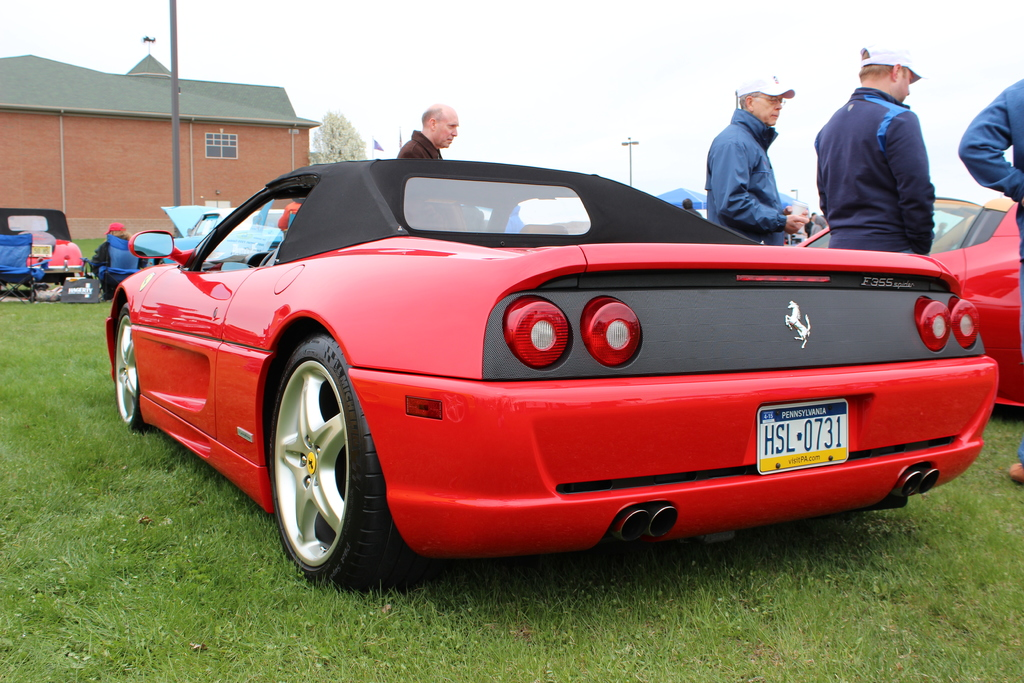Person: (89, 43, 1024, 482)
